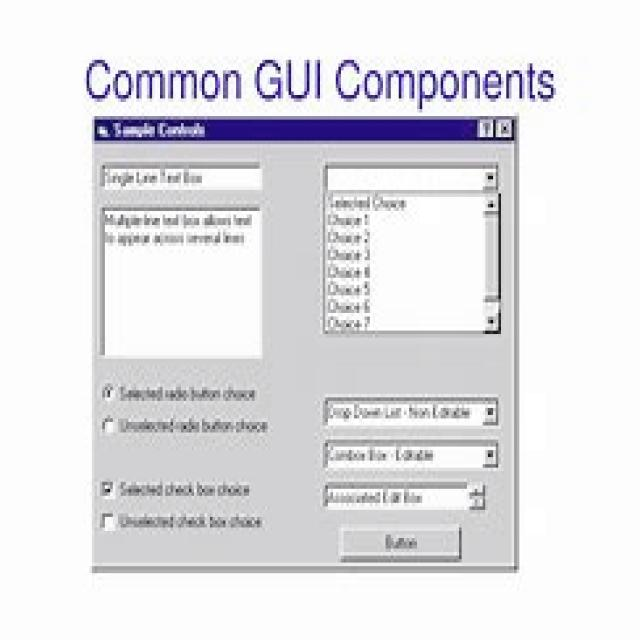button: (495, 117, 513, 140), (476, 117, 495, 138)
dropdownMenu: (321, 437, 501, 472), (322, 395, 502, 429)
icon: (93, 120, 110, 142)
input: (101, 202, 265, 362), (100, 162, 264, 194)
label: (81, 55, 564, 113), (120, 384, 258, 407), (118, 418, 273, 437), (119, 479, 251, 501), (118, 512, 266, 530), (112, 120, 206, 142)
menuItem: (319, 157, 503, 339), (328, 195, 409, 213), (326, 296, 374, 315), (326, 280, 374, 297), (327, 227, 373, 244), (326, 263, 374, 279), (326, 245, 372, 261), (326, 212, 374, 227), (326, 315, 375, 329)
radio: (98, 478, 117, 501), (100, 381, 116, 404), (100, 512, 116, 534), (103, 416, 116, 438)
slider: (482, 189, 500, 333)
upDown: (321, 480, 488, 513)
